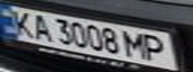0: (84, 22, 106, 52), (66, 19, 87, 48)
3: (51, 16, 72, 46)
8: (103, 25, 121, 55)
A: (27, 11, 54, 43)
K: (3, 7, 39, 38)
M: (121, 29, 148, 60)
P: (139, 33, 172, 62)
